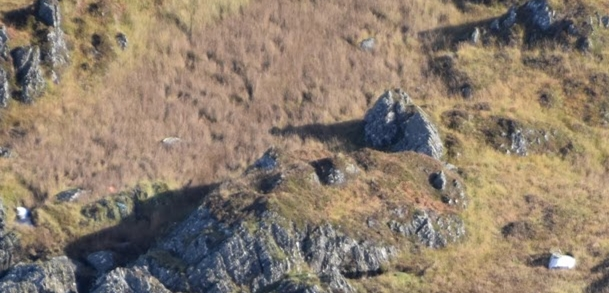white_in_green: (525, 228, 594, 291), (1, 186, 46, 234)
